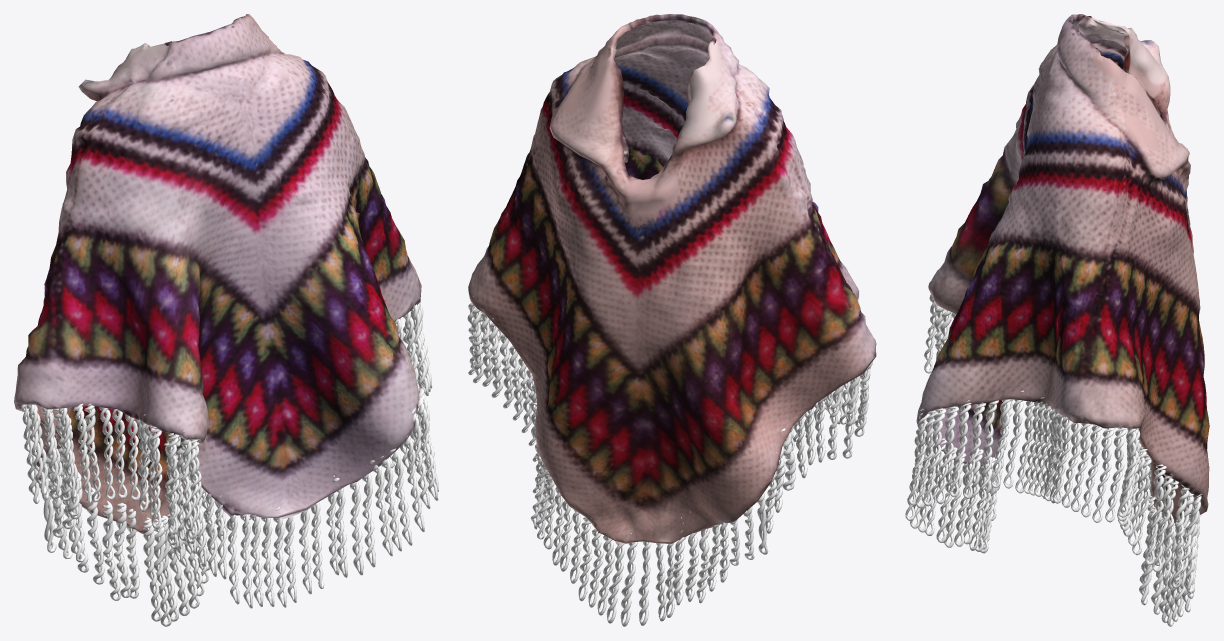
Rendered from poncho.glb.
3 renders of one model, left to right at view 1: azimuth 30°, elevation 25°; view 2: azimuth 150°, elevation 25°; view 3: azimuth 270°, elevation 25°, orthographic. The views are drawn at different scales.
Parts seen in each view (by area): view 1: Object_2, Object_23, Object_25, Object_10, Object_26, Object_29, Object_19, Object_40, Object_24, Object_18, Object_8, Object_27 (+22 smaller); view 2: Object_2, Object_31, Object_40, Object_38, Object_36, Object_33, Object_37, Object_39, Object_35, Object_30, Object_34, Object_29 (+7 smaller); view 3: Object_2, Object_6, Object_4, Object_5, Object_27, Object_3, Object_28, Object_19, Object_15, Object_7, Object_17, Object_10 (+19 smaller).
Part boxes in pixels (x1,y1,x2,y2): Object_2: [14, 14, 421, 534]; Object_23: [42, 407, 339, 621]; Object_25: [154, 435, 424, 626]; Object_10: [73, 403, 430, 539]; Object_26: [63, 417, 412, 602]; Object_29: [20, 404, 363, 575]; Object_19: [125, 300, 432, 556]; Object_40: [102, 500, 189, 615]; Object_24: [183, 479, 311, 607]; Object_18: [139, 397, 438, 549]; Object_8: [99, 407, 252, 608]; Object_27: [332, 304, 428, 577]; Object_2: [468, 14, 876, 544]; Object_31: [552, 487, 739, 607]; Object_40: [620, 528, 710, 626]; Object_38: [488, 318, 698, 601]; Object_36: [471, 296, 686, 605]; Object_33: [499, 334, 582, 583]; Object_37: [606, 522, 729, 623]; Object_39: [480, 313, 720, 591]; Object_35: [597, 397, 825, 615]; Object_30: [509, 346, 572, 571]; Object_34: [638, 408, 815, 625]; Object_29: [743, 376, 860, 559]; Object_2: [916, 14, 1209, 533]; Object_6: [963, 402, 1173, 572]; Object_4: [949, 390, 1178, 580]; Object_5: [924, 294, 1166, 565]; Object_27: [954, 414, 1115, 546]; Object_3: [1015, 401, 1189, 582]; Object_28: [936, 414, 1198, 612]; Object_19: [925, 423, 1091, 535]; Object_15: [969, 441, 1202, 588]; Object_7: [940, 308, 1147, 545]; Object_17: [923, 313, 1058, 506]; Object_10: [908, 307, 945, 505].
Size of the model in its own units: 44.01 by 63 by 29.43.
Materials: 2 (1 with a texture image).
